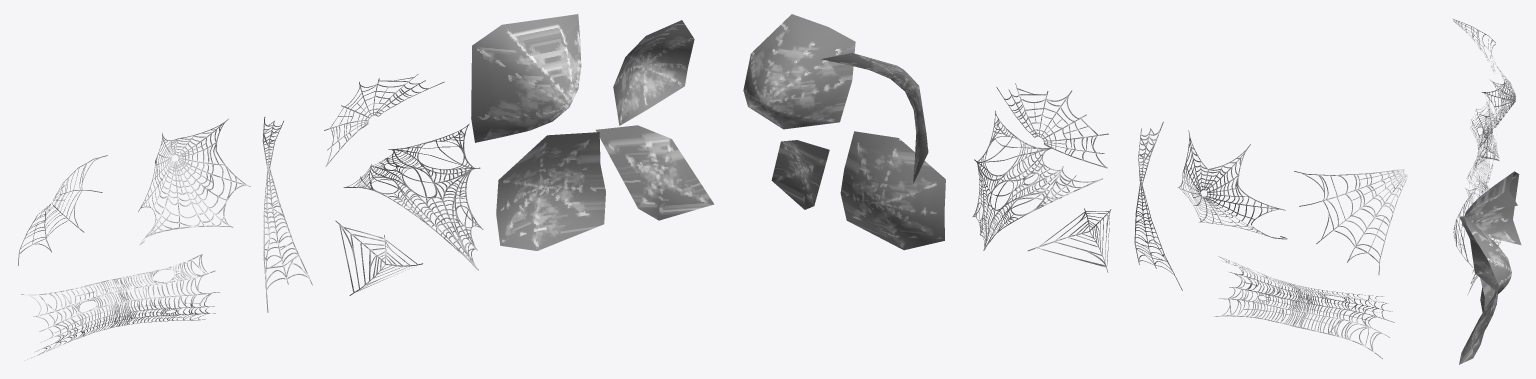
Rendered from sketchfab-cobwebs-asset-pack-emarshall.glb.
The picture shows the model from 3 angles, left to right: view 1: azimuth 30°, elevation 25°; view 2: azimuth 150°, elevation 25°; view 3: azimuth 270°, elevation 25°; orthographic projection. The views are drawn at different scales.
Visible parts, largest first — view 1: Object_2, Object_4, Object_3; view 2: Object_2, Object_4, Object_3; view 3: Object_2, Object_4, Object_3.
Boxes of the visible parts, x1,y1,x2,y2 form: Object_2: (471, 14, 714, 250); Object_4: (18, 119, 250, 359); Object_3: (262, 74, 483, 312); Object_2: (743, 14, 945, 250); Object_4: (1177, 130, 1408, 359); Object_3: (972, 83, 1182, 290); Object_2: (1459, 171, 1521, 364); Object_4: (1452, 18, 1515, 195); Object_3: (1453, 98, 1500, 295).
Size of the model in its own units: 192 by 58.15 by 26.86.
3 materials, 3 textured.
